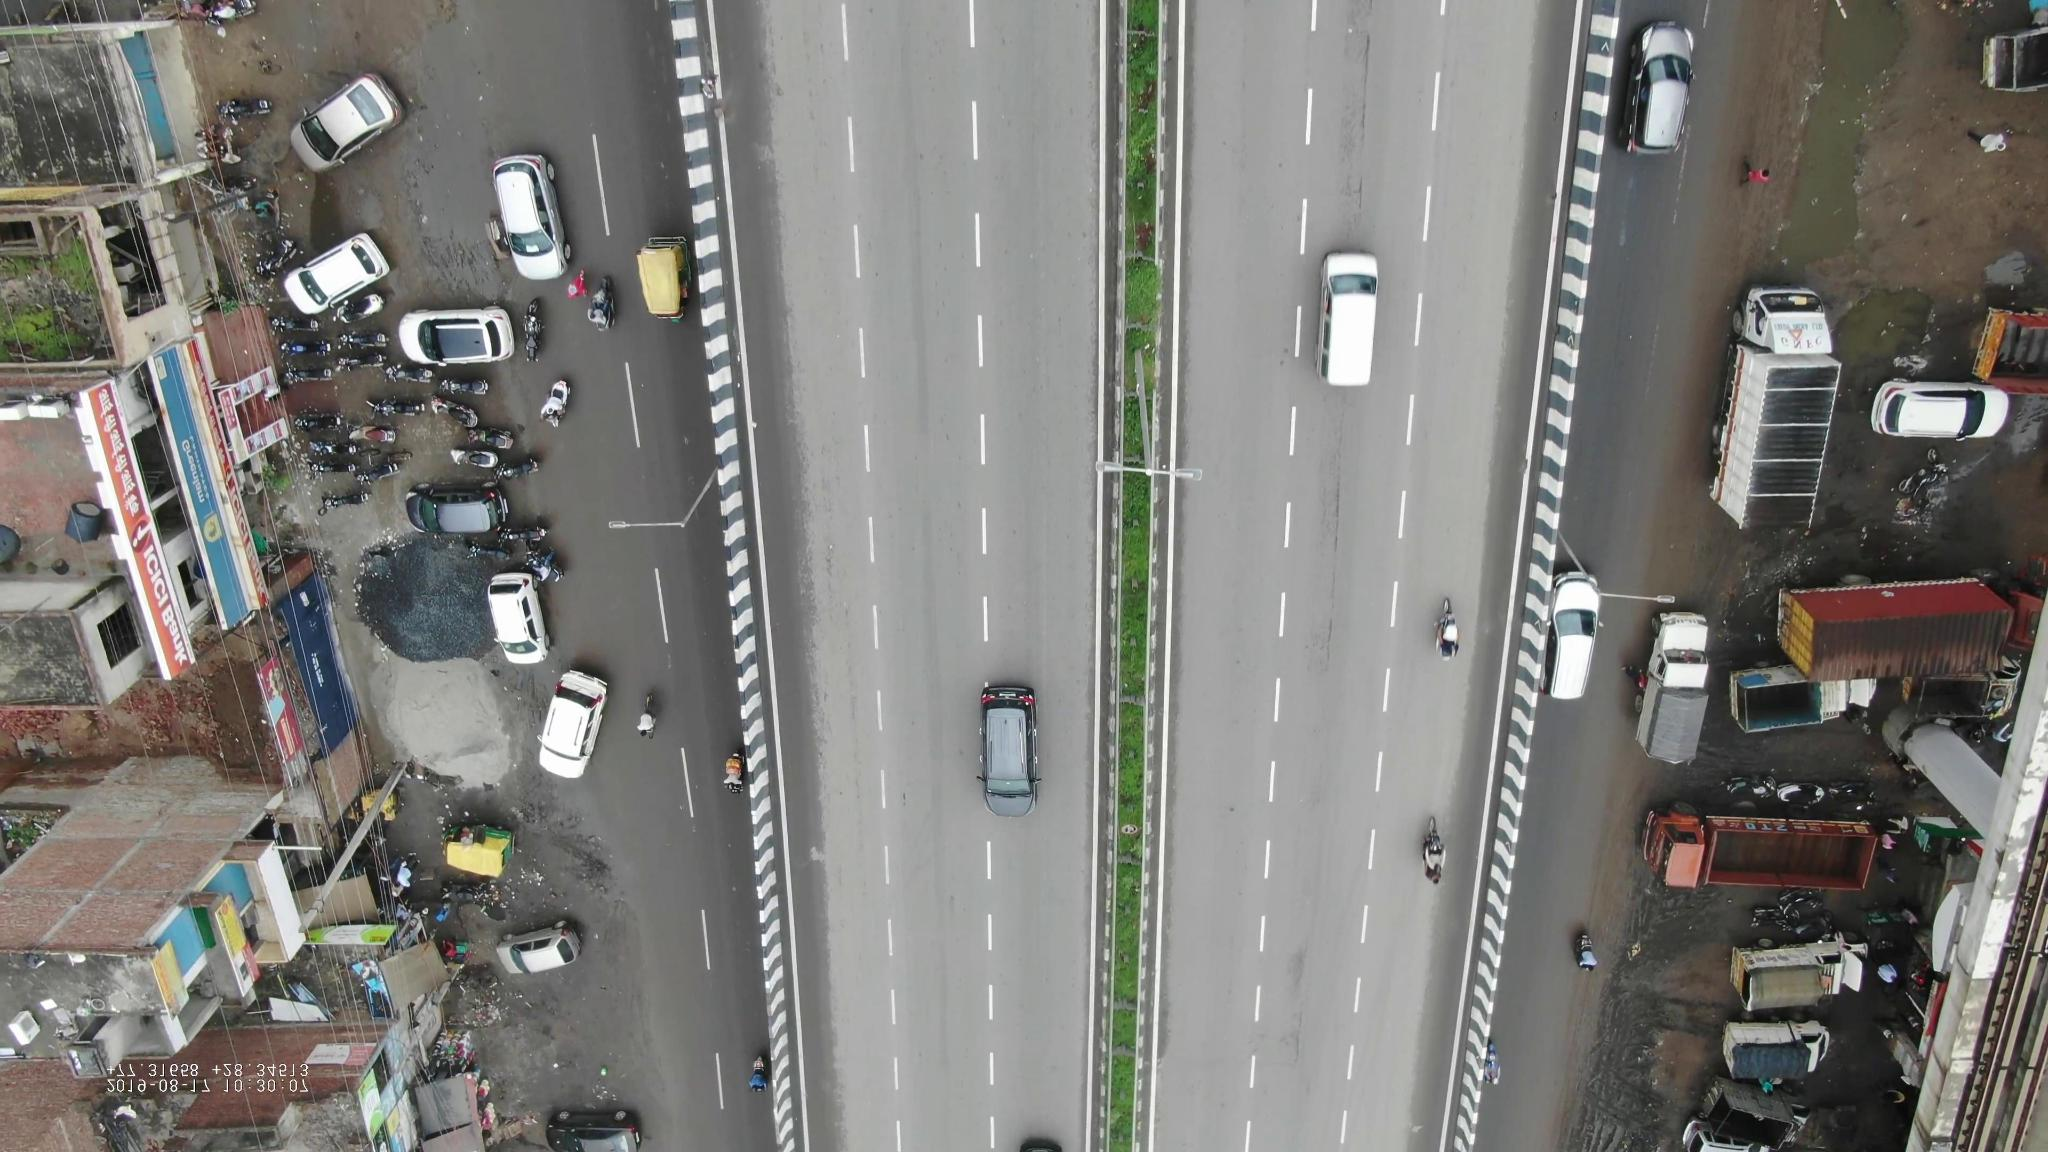Muddy_road: (1568, 959, 1687, 1148)
Ravelling: (800, 466, 864, 668), (1319, 44, 1383, 241), (1311, 430, 1356, 691), (1279, 954, 1318, 1113)
Waterlogging: (1777, 3, 1931, 270)
